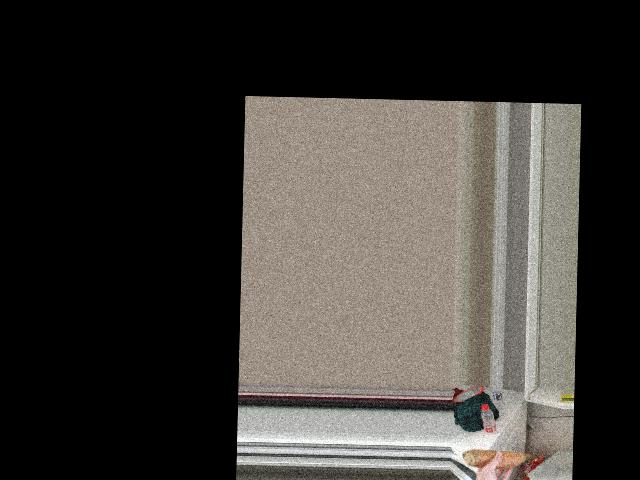sweet_potato: (468, 450, 528, 469)
